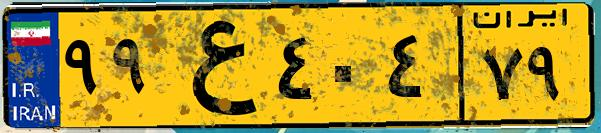0: (330, 28, 385, 110)
4: (270, 28, 330, 110), (385, 28, 445, 110)
7: (475, 38, 525, 113)
9: (57, 26, 110, 100), (525, 38, 570, 115), (110, 28, 158, 98)
ع: (158, 12, 270, 120)
